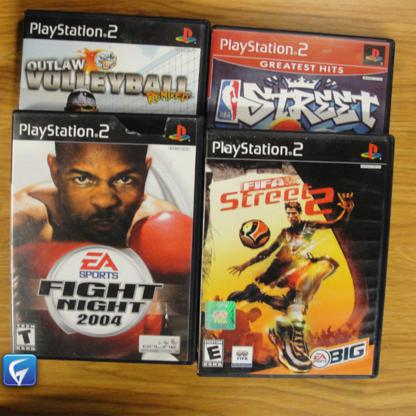face: (59, 143, 145, 244), (69, 101, 96, 129), (287, 209, 300, 225), (251, 313, 261, 323)
